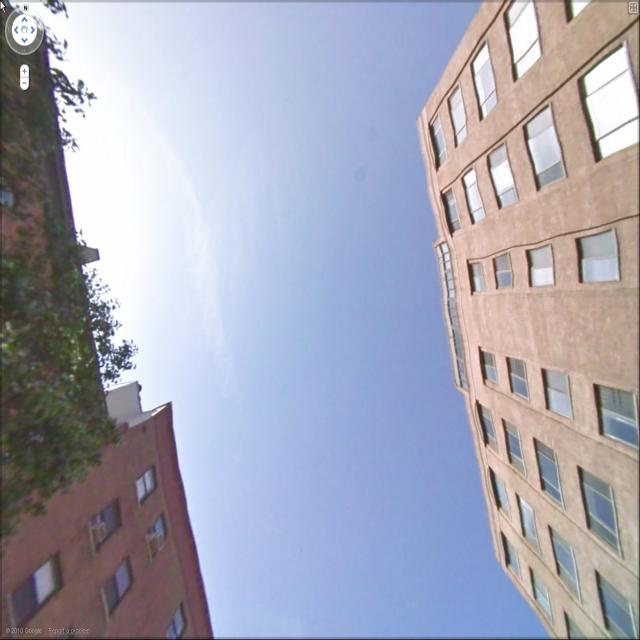b_1: (422, 4, 640, 617), (6, 382, 252, 640)
b_2: (8, 3, 102, 478)
